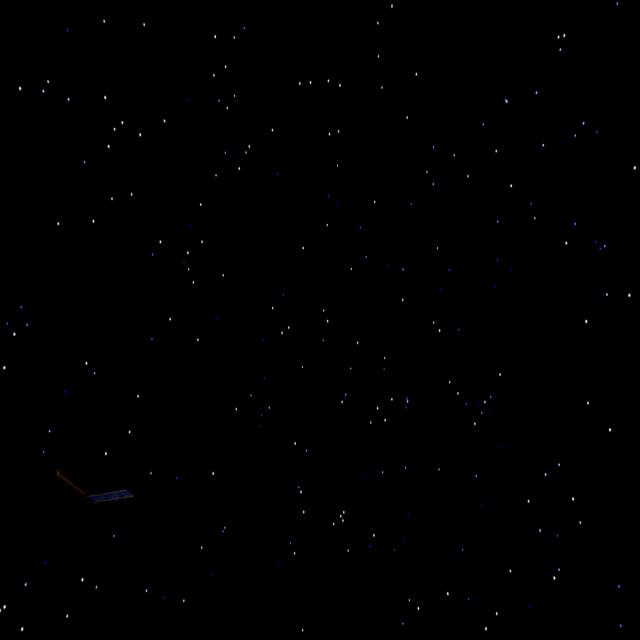medium_debris: (40, 450, 133, 561)
